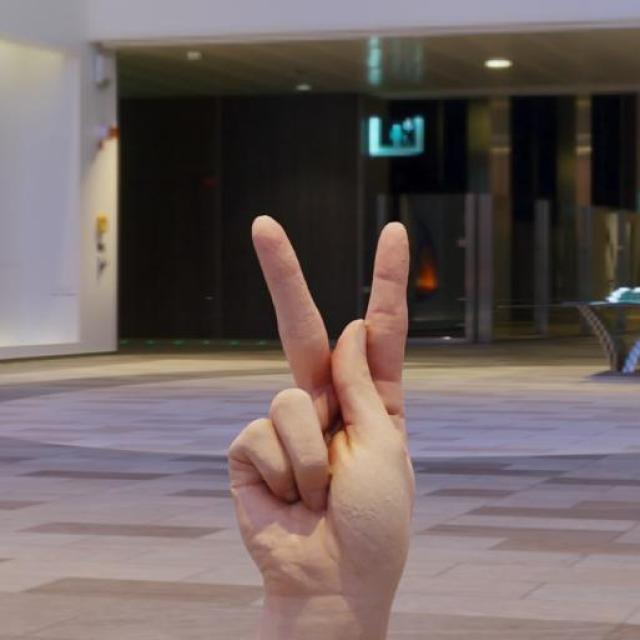K: (223, 212, 419, 608)
